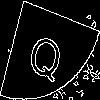Q: (25, 25, 68, 84)
